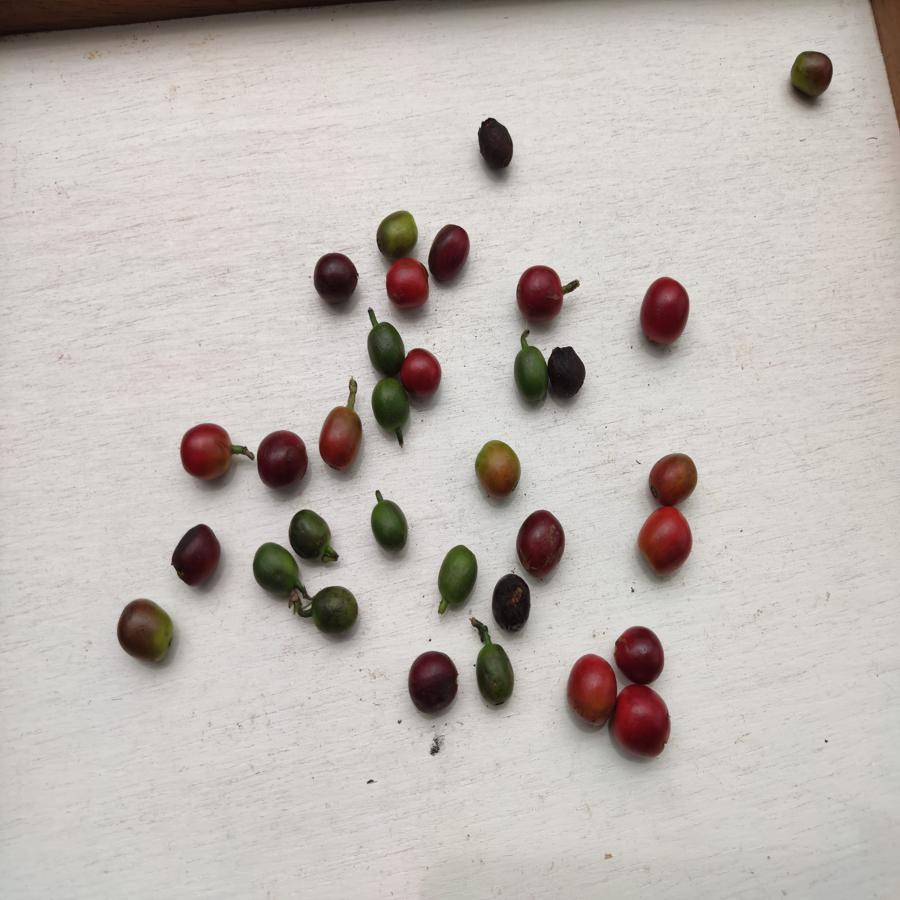Inmaduro: (252, 539, 301, 603), (473, 641, 518, 710), (436, 543, 480, 607), (310, 582, 360, 636), (512, 330, 548, 403), (287, 511, 336, 563), (368, 499, 412, 552), (366, 318, 405, 377), (370, 375, 406, 434)
Maduro: (608, 682, 673, 755), (565, 650, 616, 731), (639, 273, 692, 350), (638, 507, 697, 575), (181, 419, 234, 484), (317, 404, 363, 471), (515, 264, 568, 322), (382, 256, 430, 309), (402, 345, 444, 399)
Pinton: (114, 596, 177, 665), (472, 434, 523, 500), (650, 449, 697, 508), (789, 48, 838, 99), (376, 209, 418, 254)
Sobremaduro: (515, 505, 567, 578), (407, 649, 462, 715), (168, 523, 223, 586), (613, 626, 666, 683), (256, 430, 308, 488), (312, 252, 363, 308), (491, 573, 532, 637), (475, 115, 516, 172), (429, 225, 470, 282), (548, 343, 588, 398)
